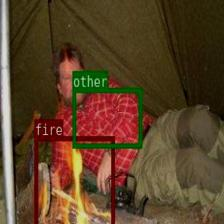fire: (34, 135, 114, 224)
